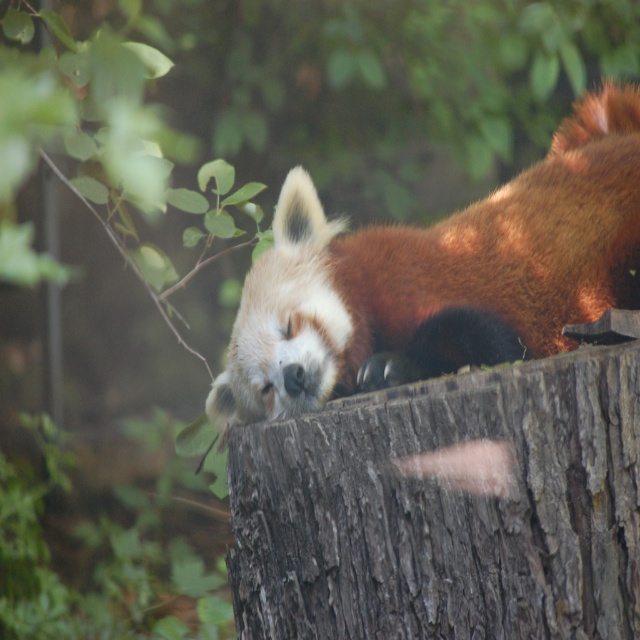Red panda: (206, 75, 640, 422)
